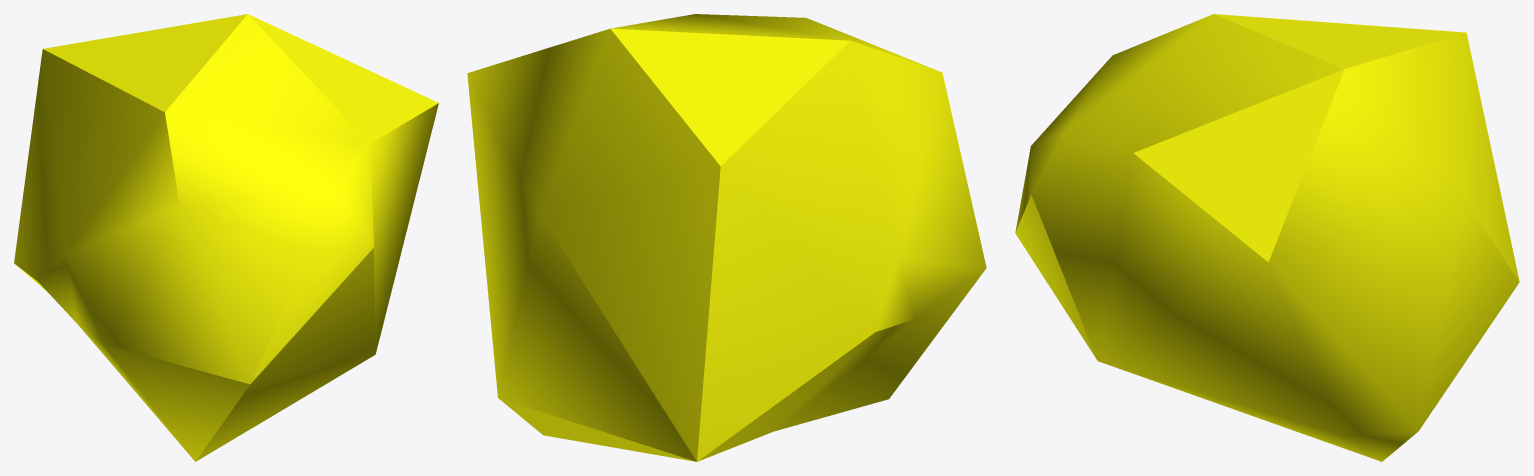
The model's file is kaykit-iron-nugget-small.glb.
The picture shows the model from 3 angles, left to right: view 1: azimuth 30°, elevation 25°; view 2: azimuth 150°, elevation 25°; view 3: azimuth 270°, elevation 25°; orthographic projection. The views are drawn at different scales.
Parts seen in each view (by area): view 1: Iron_Nugget_Small; view 2: Iron_Nugget_Small; view 3: Iron_Nugget_Small.
Boxes of the visible parts, x1,y1,x2,y2 form: Iron_Nugget_Small: (14, 14, 438, 461); Iron_Nugget_Small: (467, 14, 986, 461); Iron_Nugget_Small: (1015, 14, 1519, 461).
Bounding box in the file's own units: 0.1411 × 0.1204 × 0.1461.
